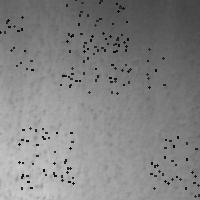pitted_surface: (9, 25, 63, 191), (55, 39, 189, 96), (70, 104, 131, 181), (159, 86, 197, 197), (60, 35, 117, 92), (18, 127, 72, 187), (66, 0, 126, 50), (150, 136, 200, 195), (111, 38, 163, 86), (0, 10, 31, 69)
